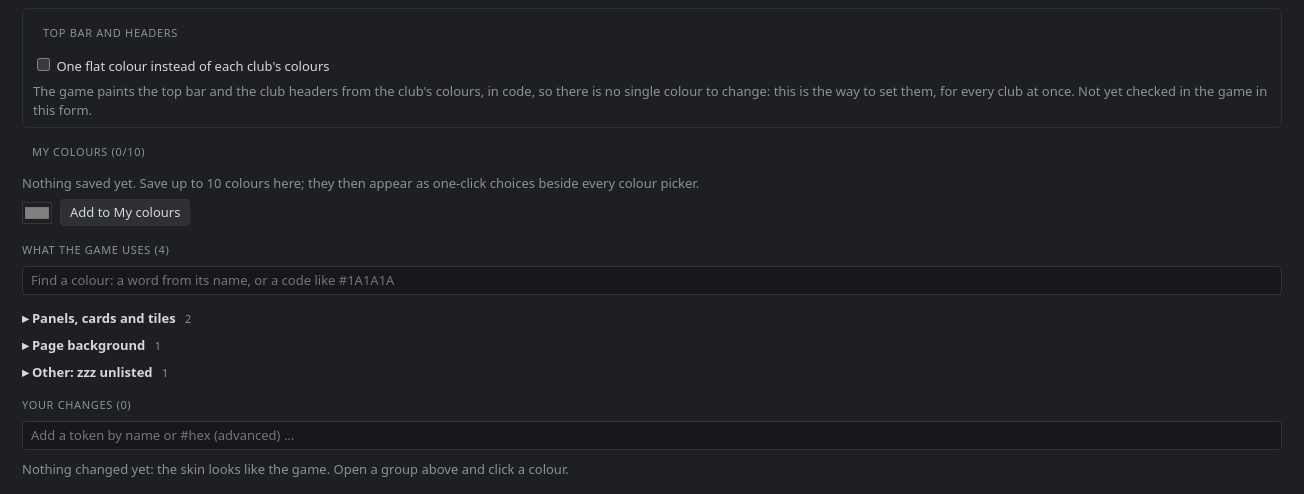
Test: the Colours view › the search opens the groups that match, by name or by colour code
The image size is (1304, 494).
Check: the text "WHAT THE GAME USES (4)" is shown, box [22,242,169,257]
Step 1. Type "cards" into the field labelled "Find a colour" → (652, 280), box [22,266,1282,295]
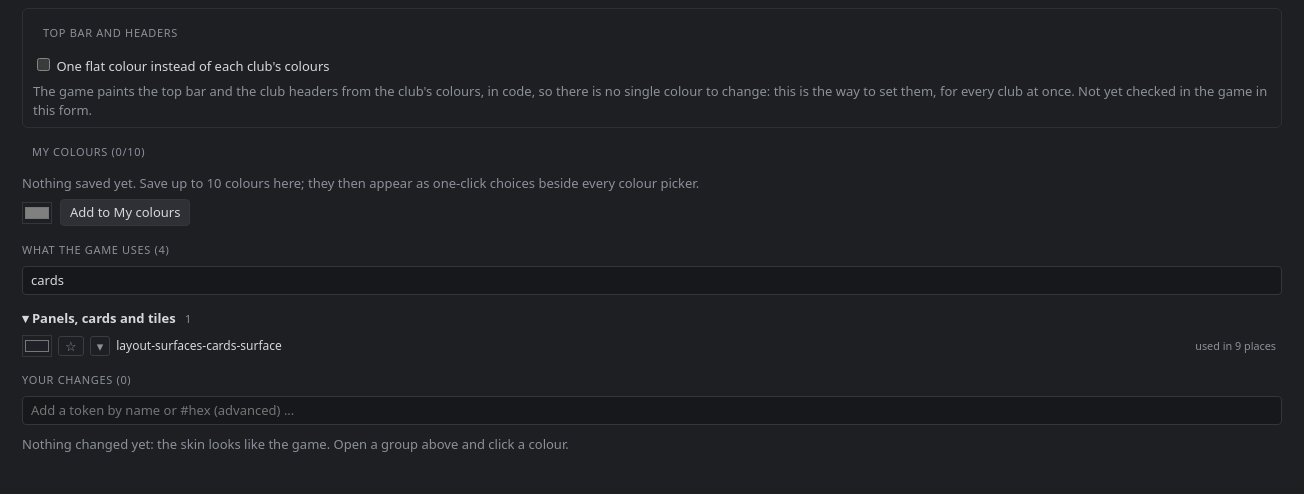
Check: the colour field named "Colour of layout-surfaces-cards-surface" is shown, box [22,335,52,357]
Step 2. Replace the text in the field named "Find a colour" with "#123456" → (652, 280), box [22,266,1282,295]
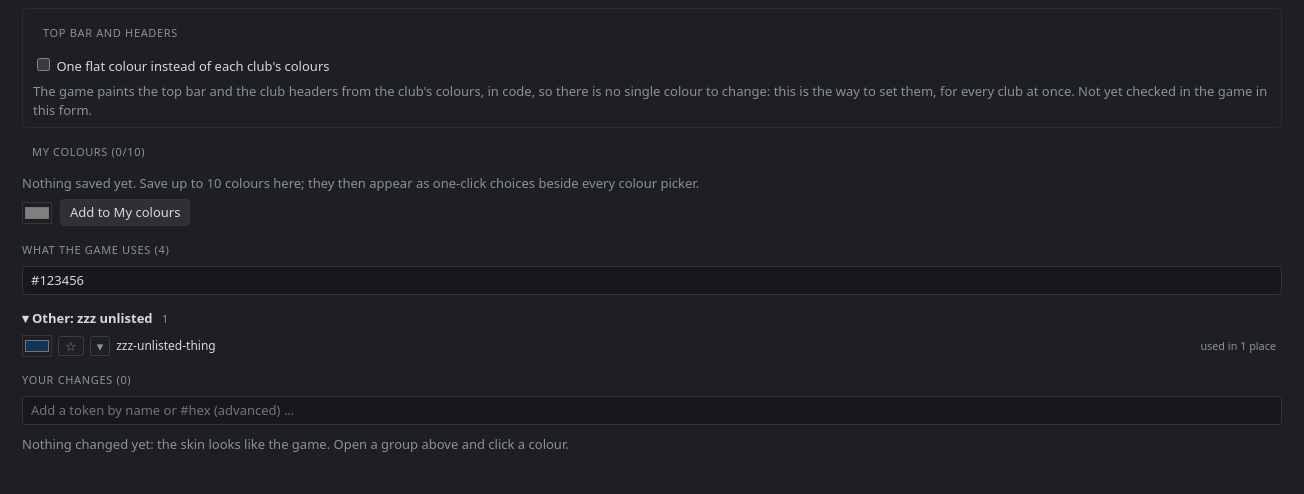
Check: the colour field named "Colour of zzz-unlisted-thing" is shown, box [22,335,52,357]
Step 3. Replace the text in the field named "Find a colour" with "nothing-like-this" → (652, 280), box [22,266,1282,295]
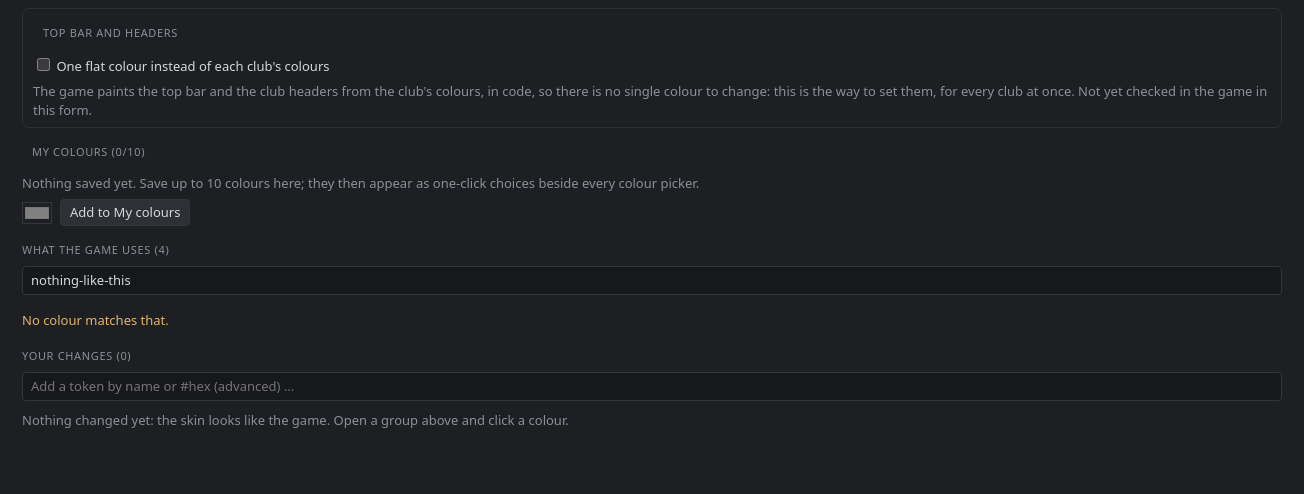
Check: the text "No colour matches that." is shown, box [22,311,169,329]
